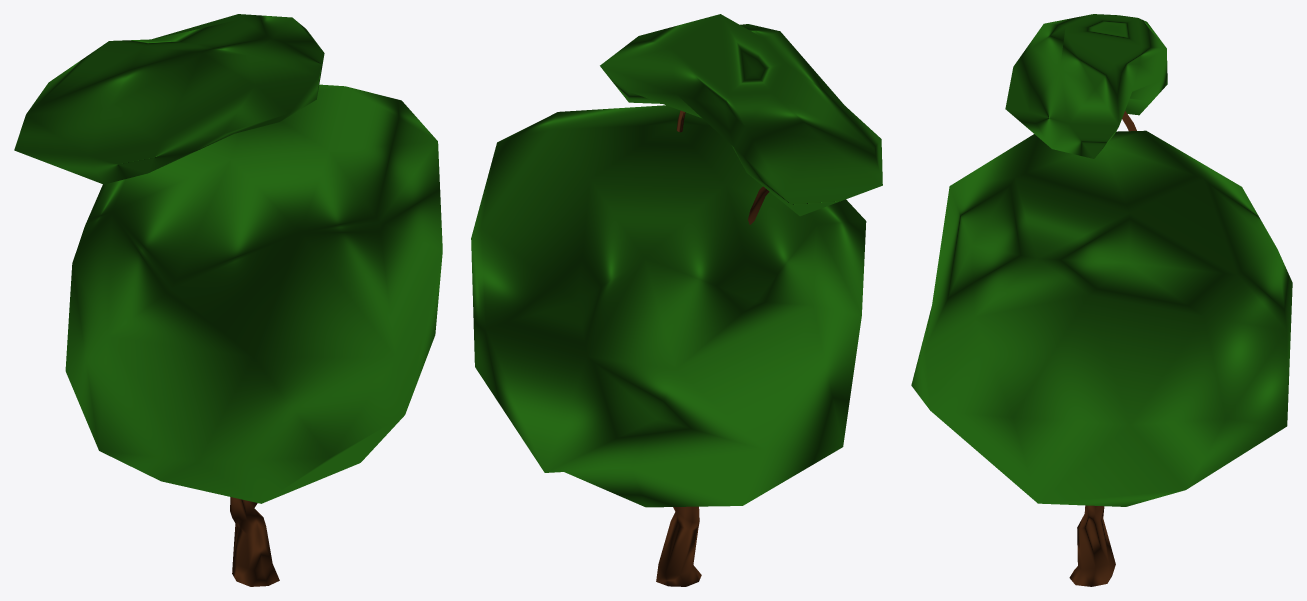
The model's file is Bush_3.obj.
3 renders of one model, left to right at view 1: azimuth 30°, elevation 25°; view 2: azimuth 150°, elevation 25°; view 3: azimuth 270°, elevation 25°, orthographic. The views are drawn at different scales.
Parts seen in each view (by area): view 1: Bush_3; view 2: Bush_3; view 3: Bush_3.
Part boxes in pixels (x1=…): Bush_3: x1=14, y1=14, x2=442, y2=586; Bush_3: x1=471, y1=14, x2=882, y2=586; Bush_3: x1=911, y1=14, x2=1292, y2=586.
Size of the model in its own units: 176 by 248 by 161.
